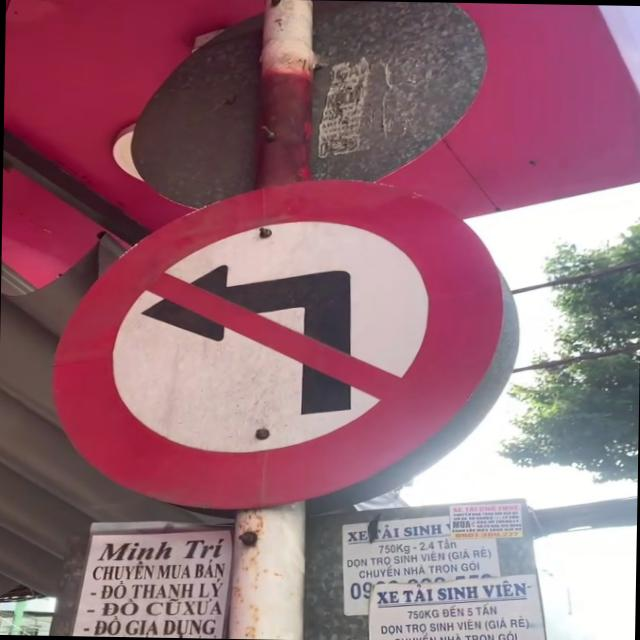Cam_Re_Trai: (47, 172, 516, 514)
